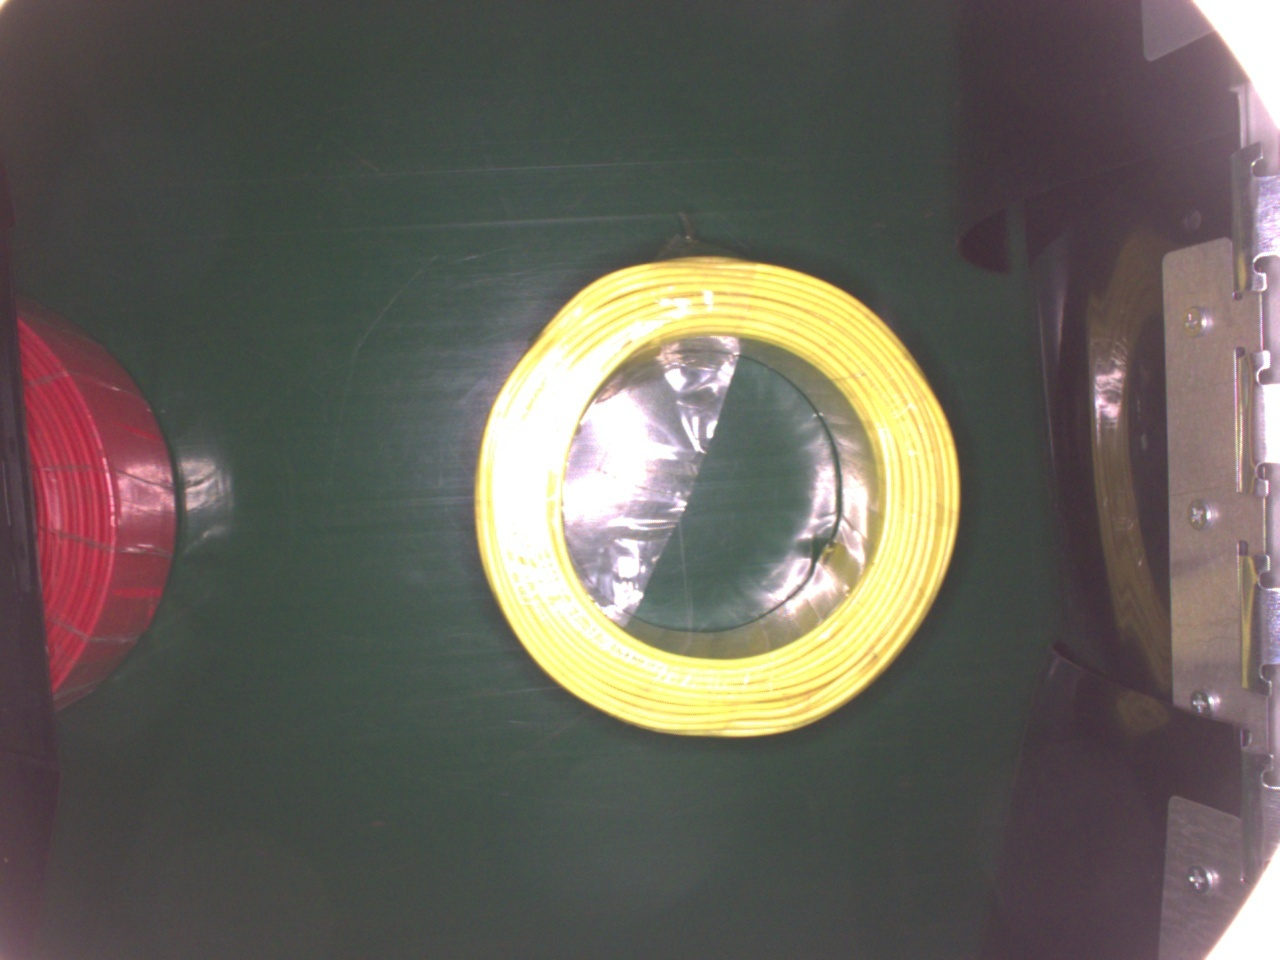red: (16, 294, 177, 711)
yellow: (470, 251, 957, 734)
